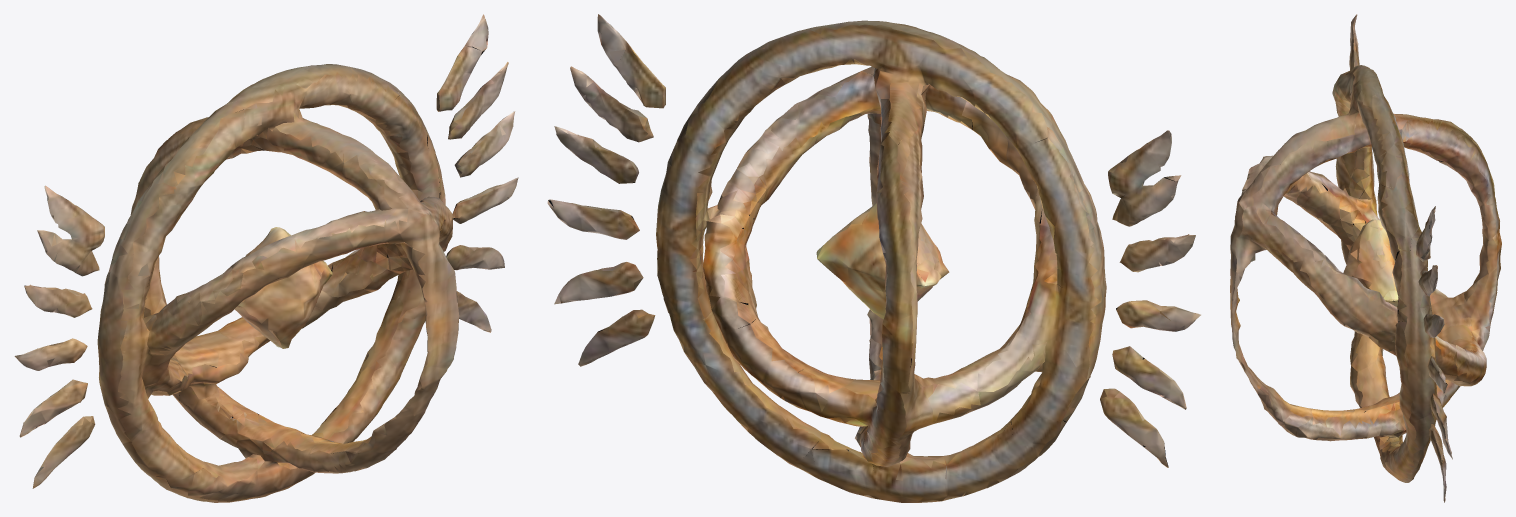
The model's file is aethelian_archon_ophanim.glb.
3 views of the same model, side by side, from view 1: azimuth 30°, elevation 25°; view 2: azimuth 150°, elevation 25°; view 3: azimuth 270°, elevation 25° (orthographic). The views are drawn at different scales.
Visible parts, largest first — view 1: geometry_0; view 2: geometry_0; view 3: geometry_0.
Part boxes in pixels (left/top/right/bottom): geometry_0: left=14, top=14, right=518, bottom=502; geometry_0: left=547, top=14, right=1200, bottom=502; geometry_0: left=1230, top=14, right=1501, bottom=502.
Bounding box in the file's own units: 0.9365 × 0.6938 × 0.4439.
1 material, 1 textured.
